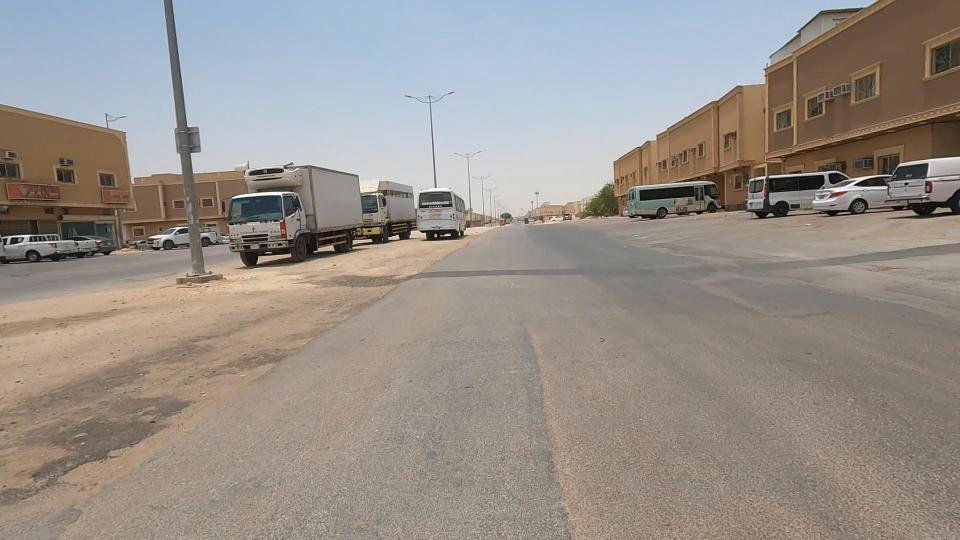CLUTTER_SIDEWALK: (0, 243, 341, 469), (158, 229, 436, 349)
